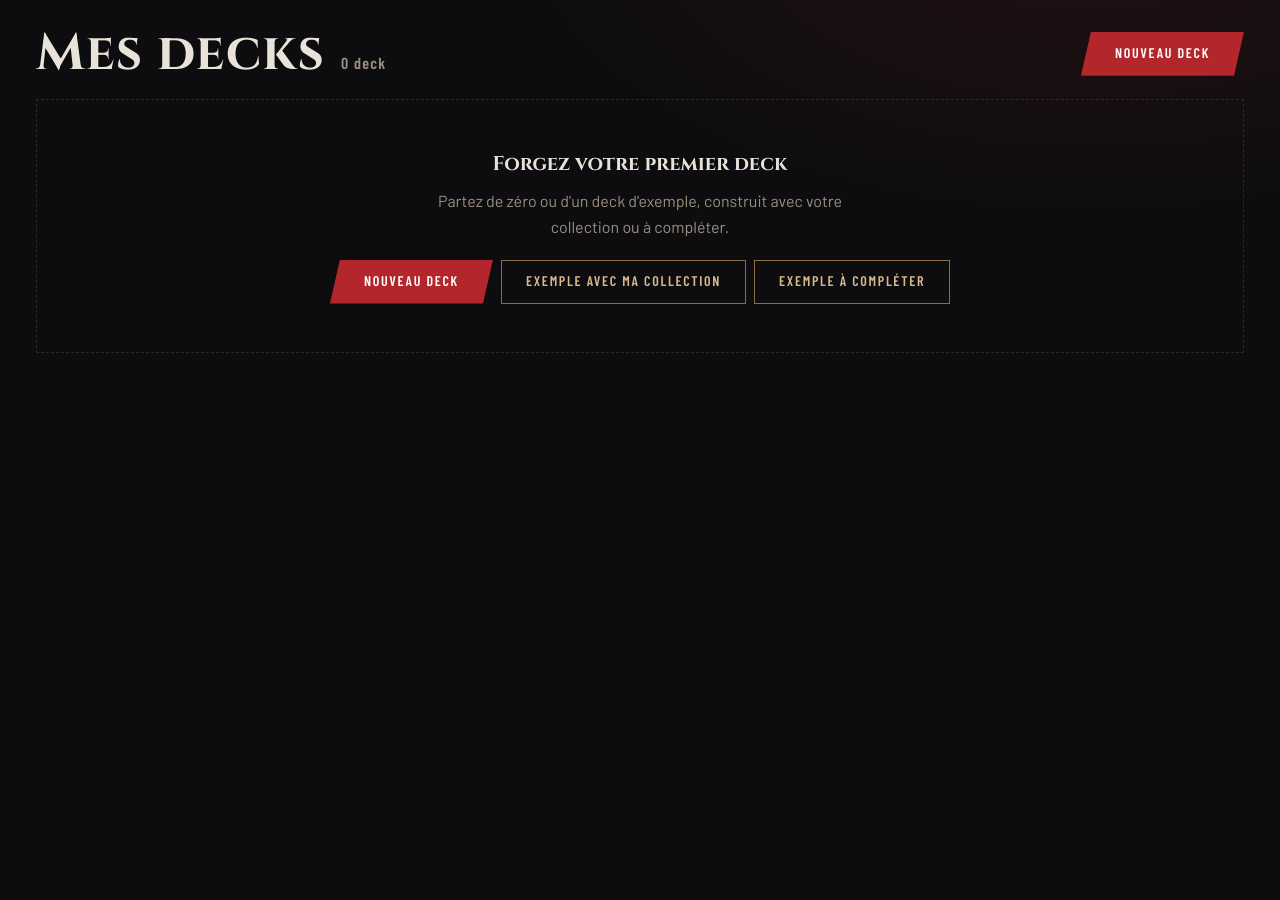
Test: DecksView › création en échec : le message s'affiche et la modale reste ouverte
Click the button with class "mesdecks-new": click(1162, 54) [1081,32,1244,76]
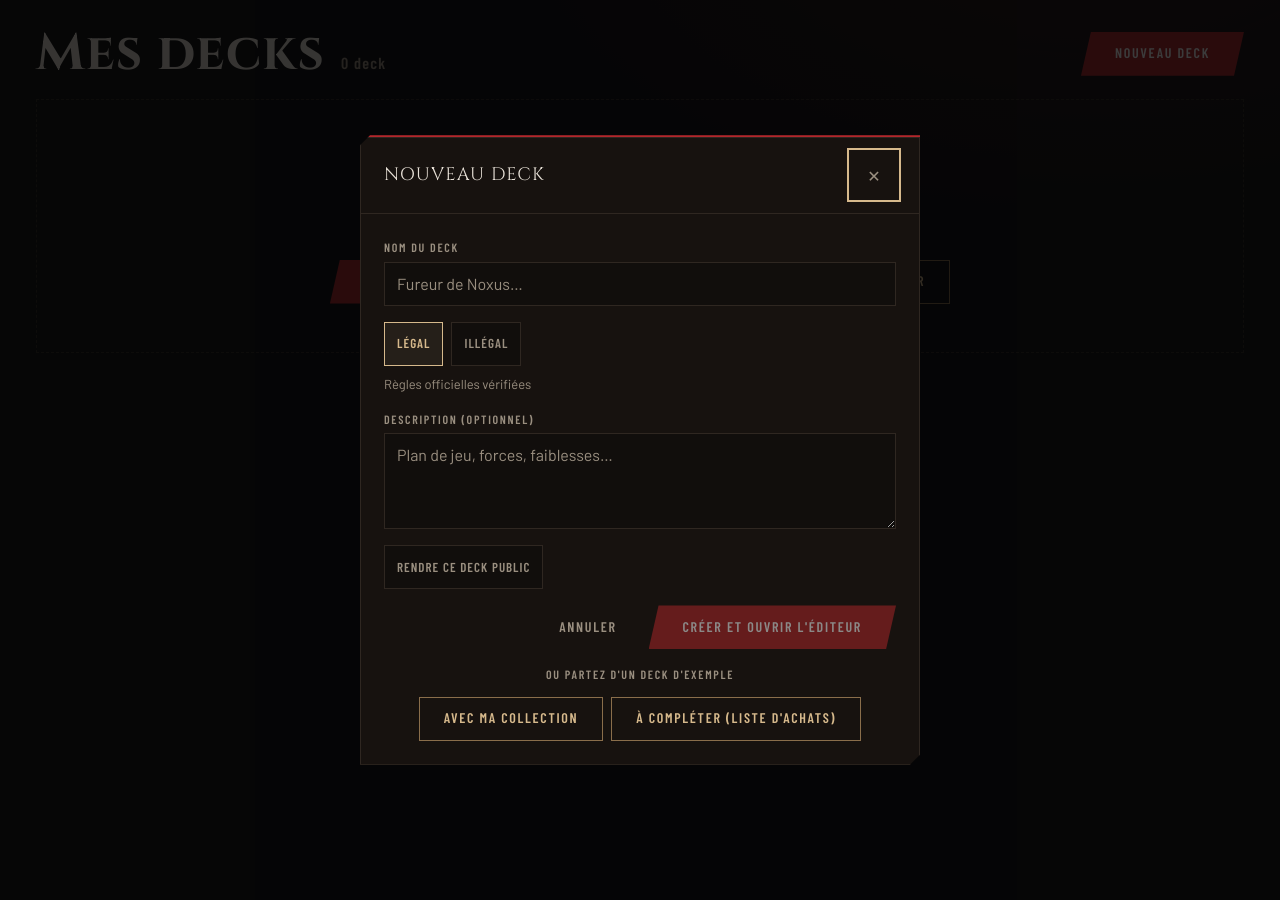
In the field labelled "Nom du deck": (640, 284) [397,271,883,296], type "Fureur de Noxus"
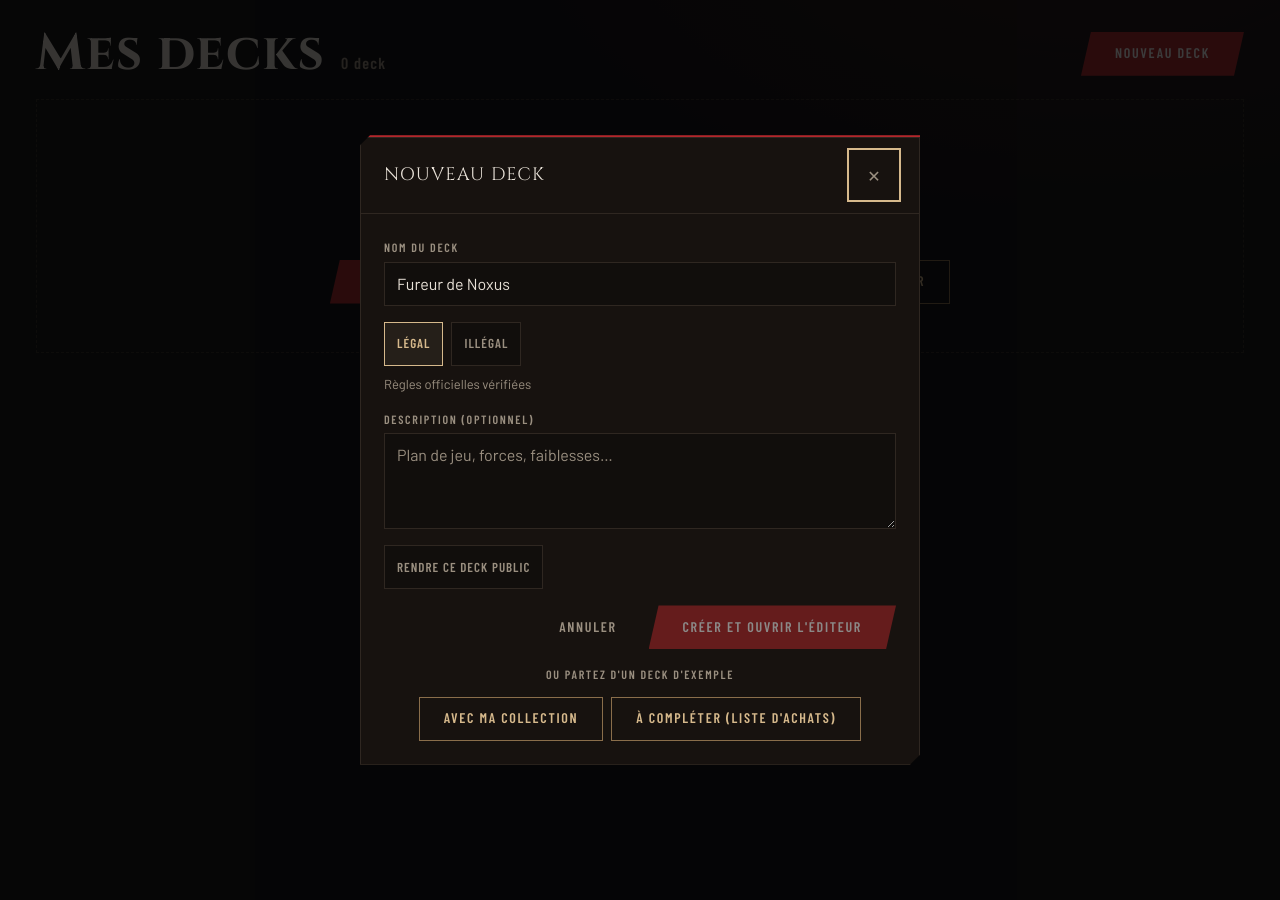
Submit the form, box [384,238,896,650]
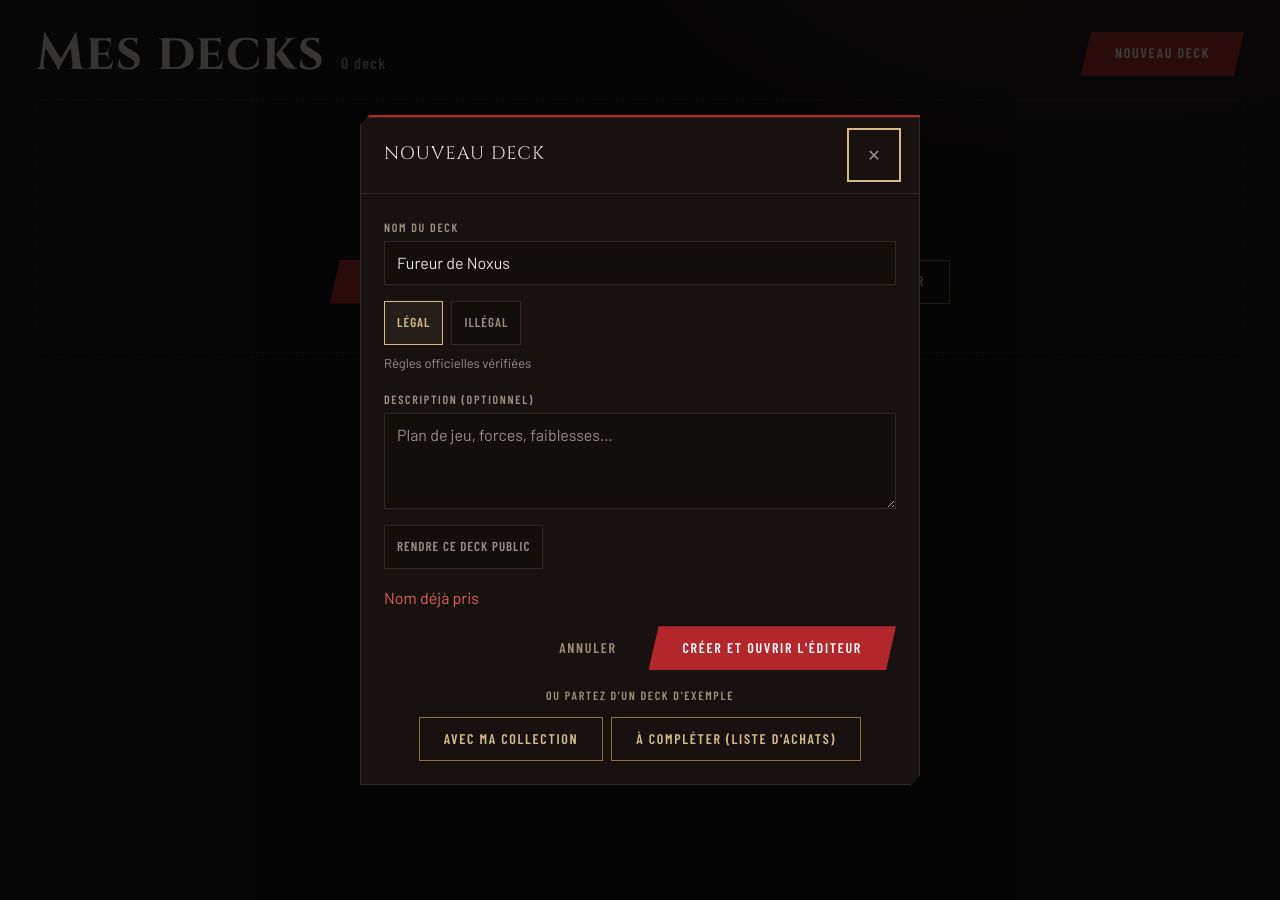
Expected: the dialog with class "rift-modal" is shown, [360,114,920,786]
Expected: the message with class "mesdecks-error" reads "Nom déjà pris", [384,588,479,607]
